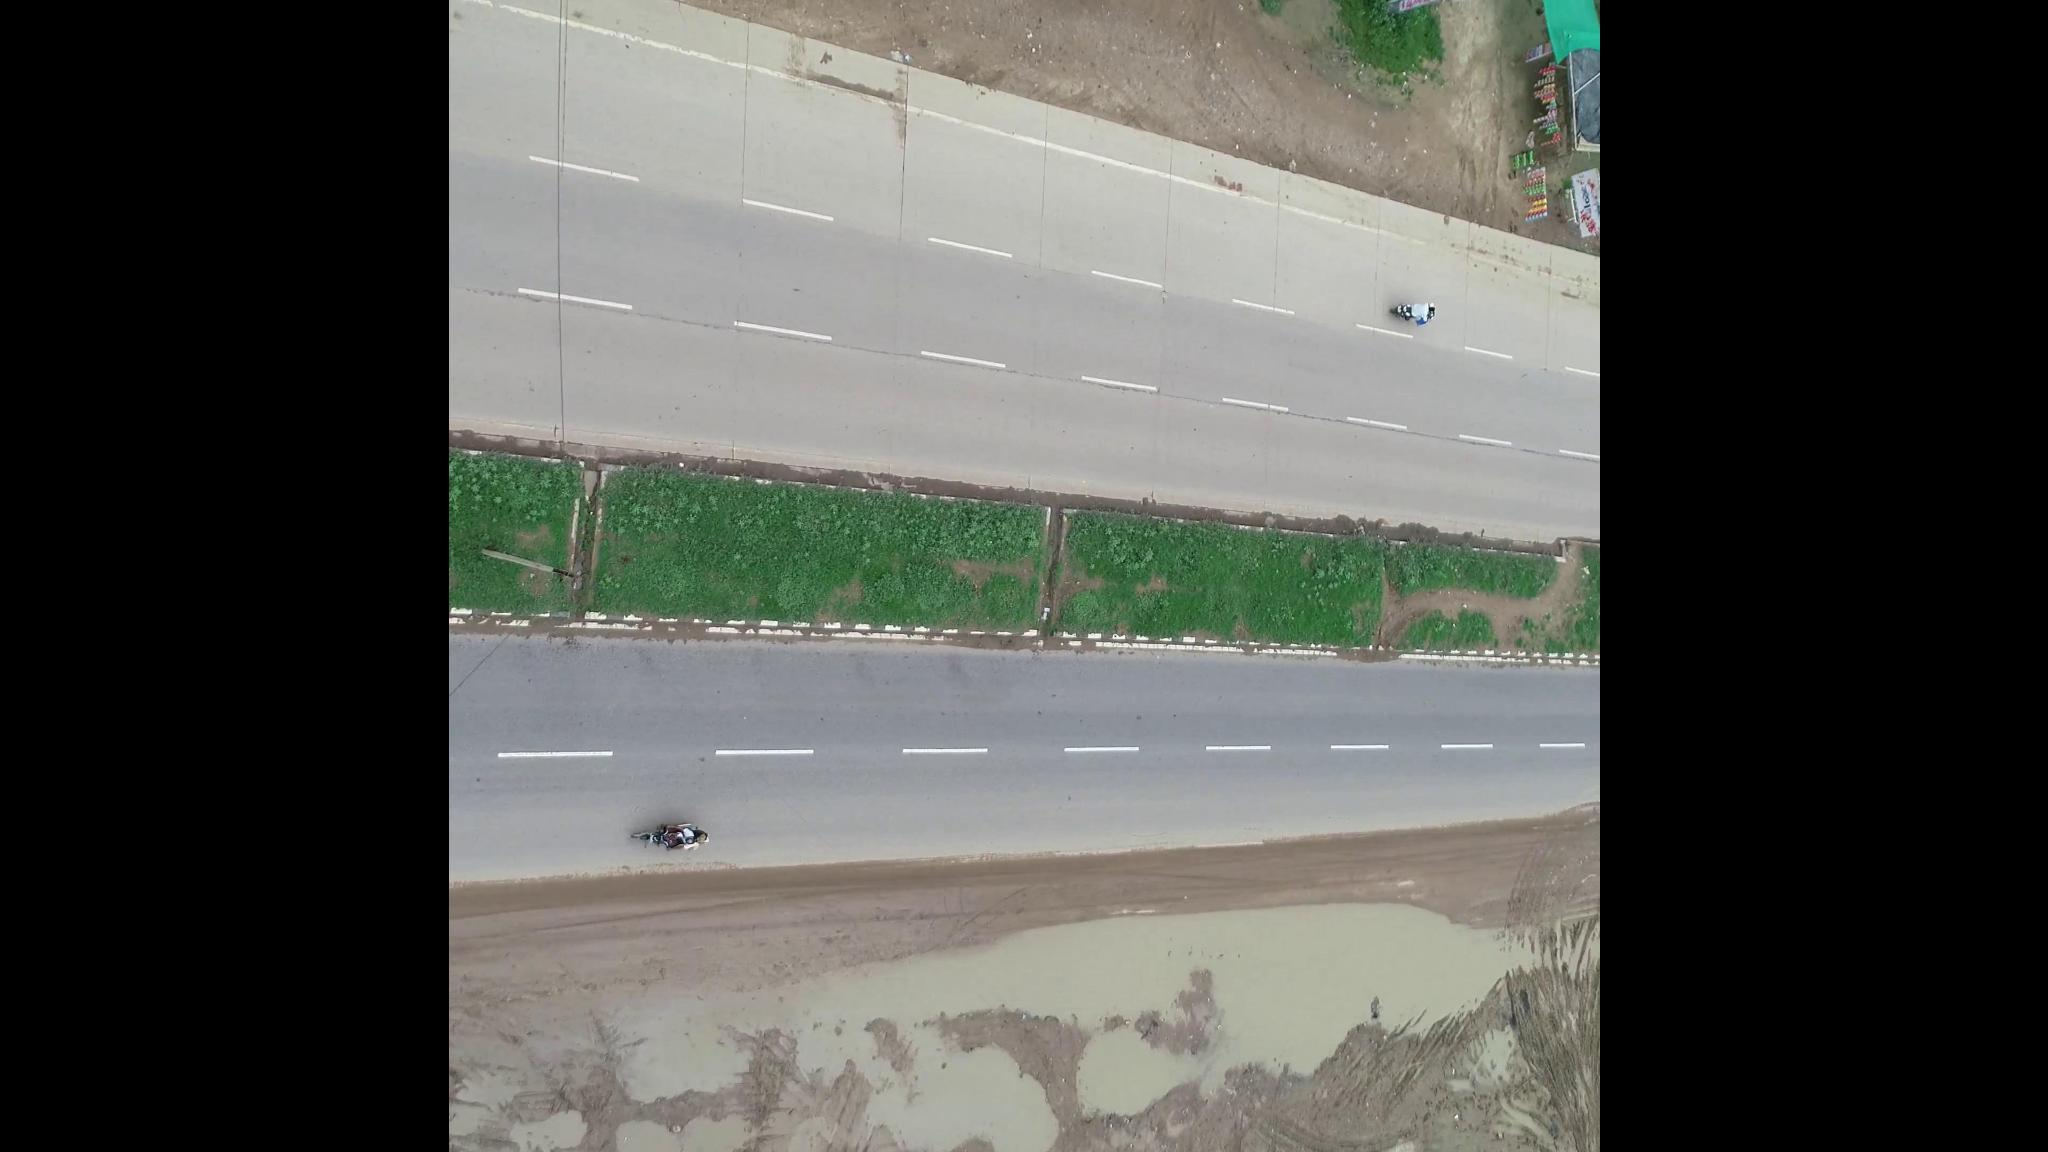Muddy_road: (464, 851, 890, 965), (913, 812, 1280, 920), (1286, 793, 1592, 896)
Waterlogging: (992, 902, 1544, 1084)
